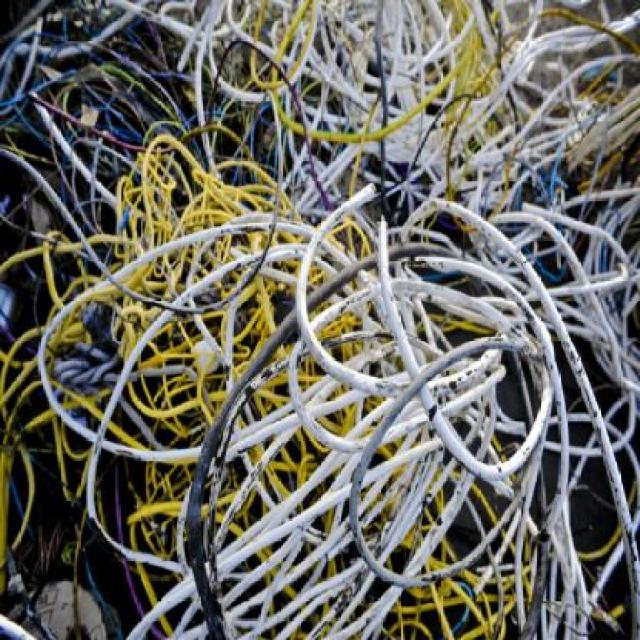garbage: (2, 3, 640, 639)
